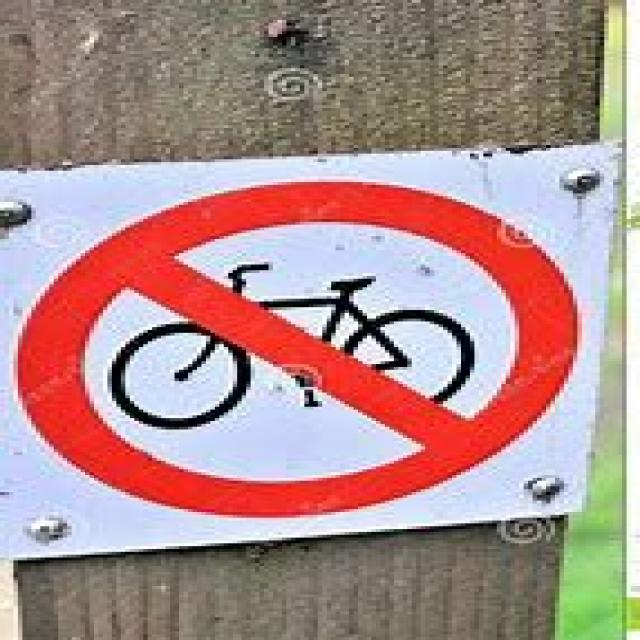CYCLE_PROHIBITED: (9, 176, 577, 512)
